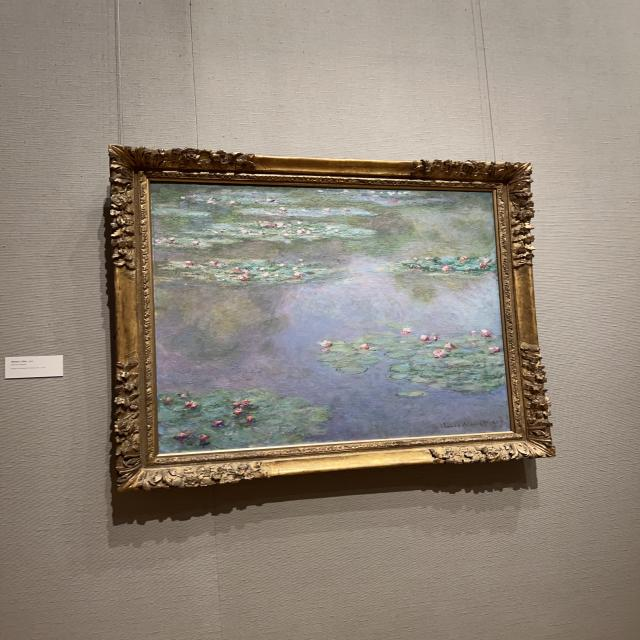lilies: (152, 183, 510, 452), (157, 186, 508, 452)
